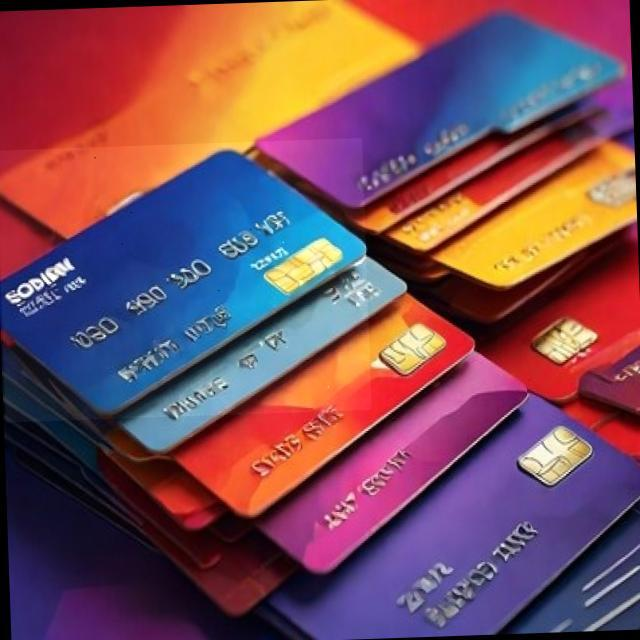payment_card: (0, 147, 367, 419)
